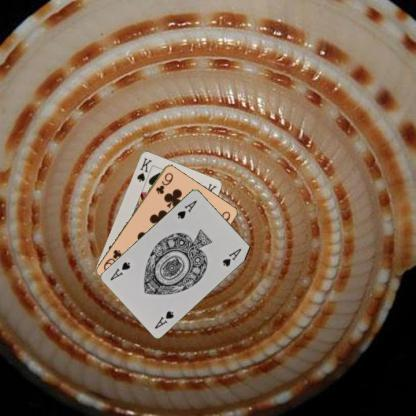9c: (153, 170, 175, 195)
As: (175, 198, 198, 220), (152, 308, 175, 330)
Ks: (134, 155, 153, 183)
